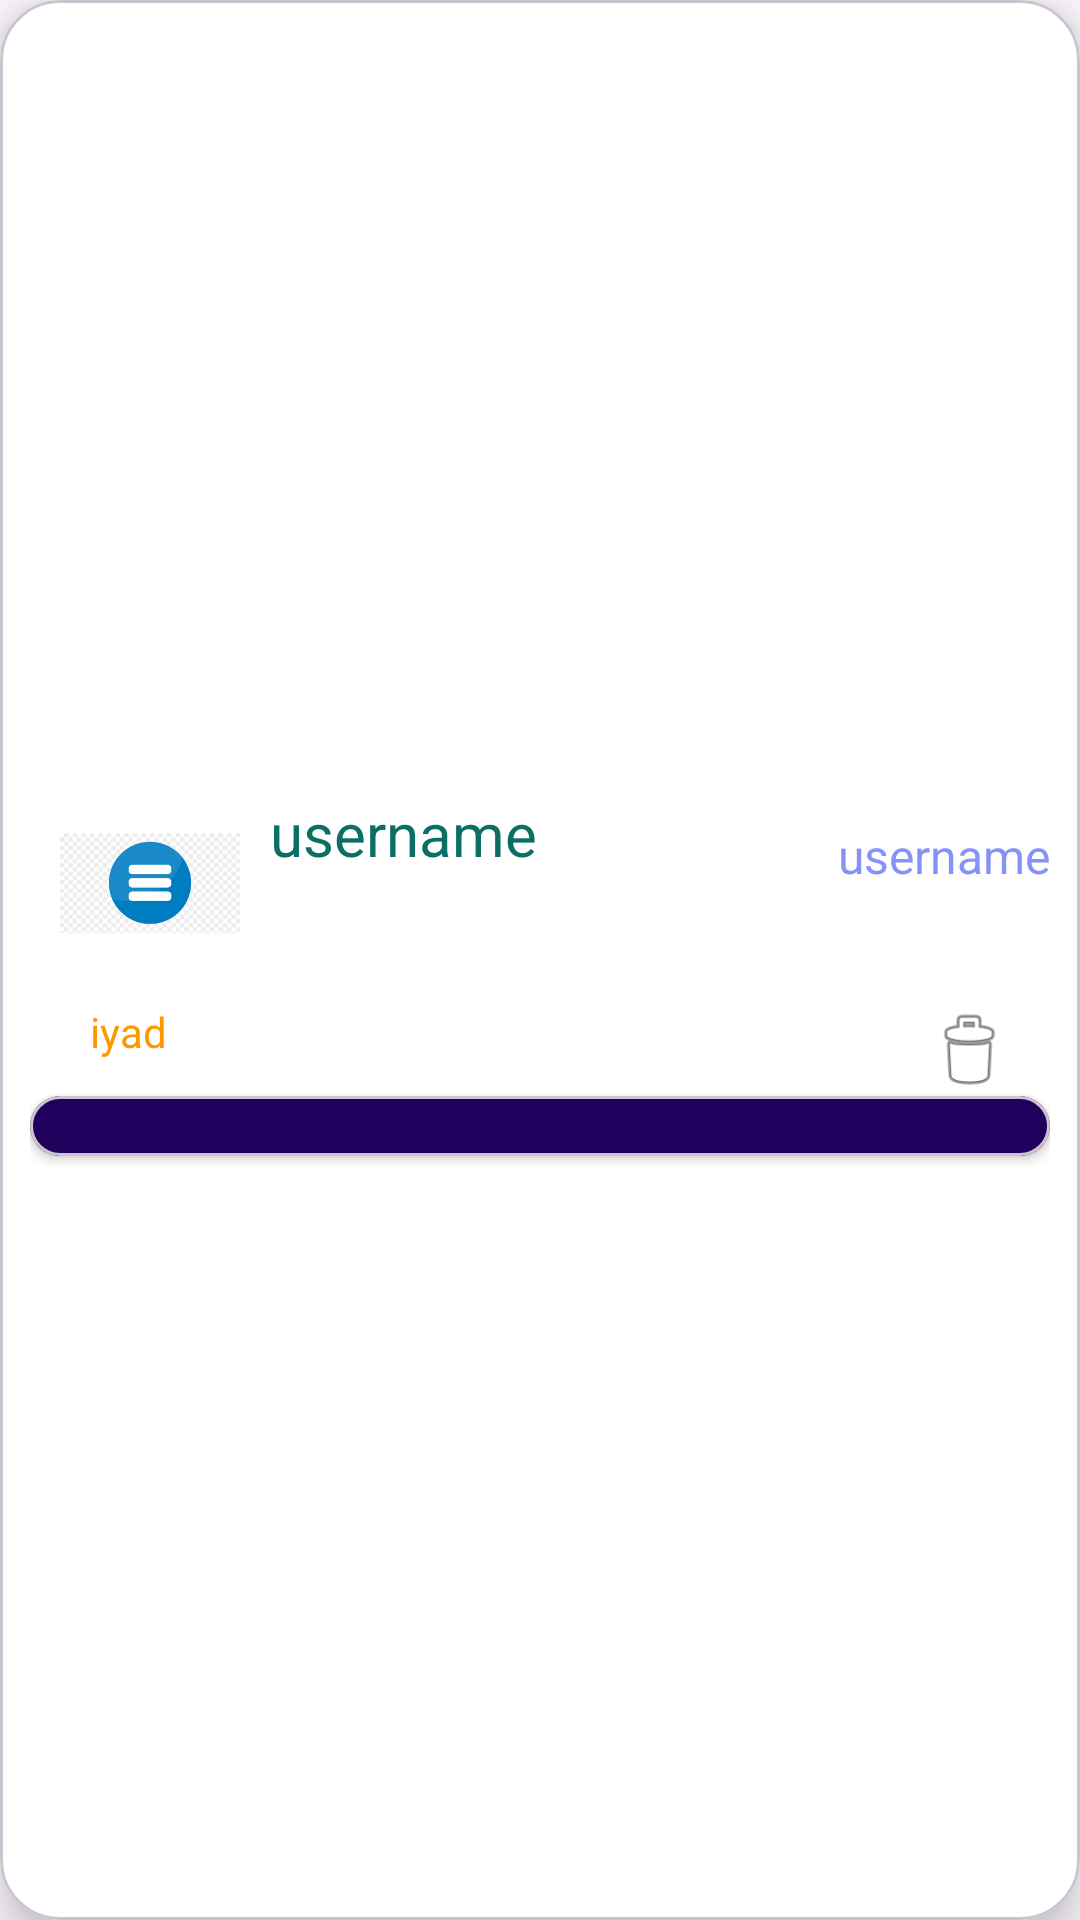

Icon bounding boxes for this 1080x1920 phone screenshot, format (x1, y1, x2, y2):
menux: (108, 841, 191, 924)
